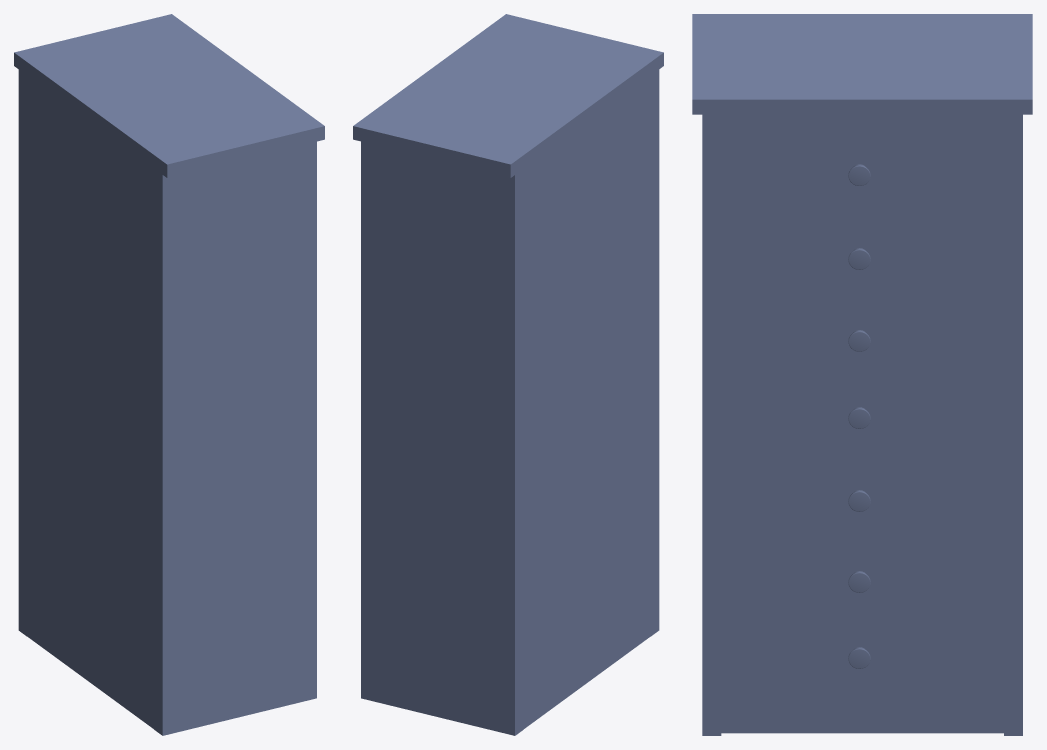
The model's file is BlueCabinet.fbx.
The picture shows the model from 3 angles, left to right: view 1: azimuth 30°, elevation 25°; view 2: azimuth 150°, elevation 25°; view 3: azimuth 270°, elevation 25°; orthographic projection. The views are drawn at different scales.
Visible parts, largest first — view 1: pCube56; view 2: pCube56; view 3: pCube56.
Boxes of the visible parts, x1,y1,x2,y2 form: pCube56: [14, 14, 324, 735]; pCube56: [353, 14, 663, 735]; pCube56: [692, 14, 1032, 735].
Bounding box in the file's own units: 1.22 × 4.24 × 2.05.
